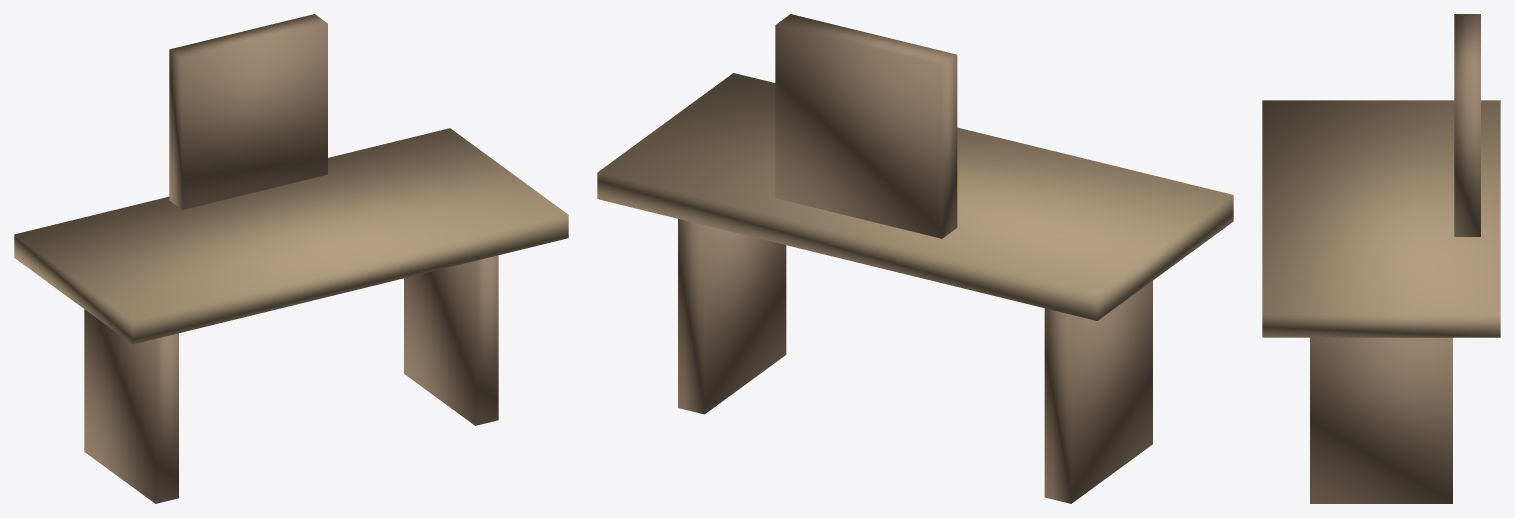
File: altar_table__squat.glb
3 views of the same model, side by side, from view 1: azimuth 30°, elevation 25°; view 2: azimuth 150°, elevation 25°; view 3: azimuth 270°, elevation 25° (orthographic). The views are drawn at different scales.
Visible parts, largest first — view 1: world; view 2: world; view 3: world.
Boxes of the visible parts, left/top/right/bottom form: world: left=14, top=14, right=568, bottom=503; world: left=597, top=14, right=1233, bottom=503; world: left=1262, top=14, right=1500, bottom=503.
Size of the model in its own units: 1.65 by 1.33 by 0.7776.
